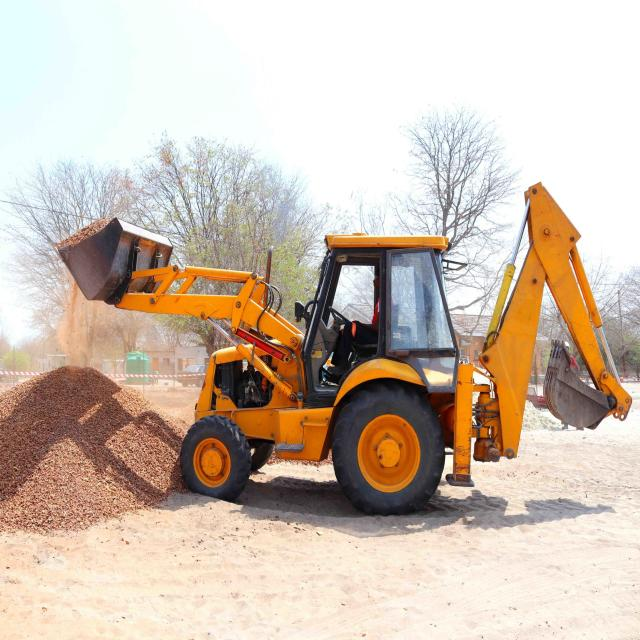buldozerpayloadergrader: (48, 182, 482, 526)
